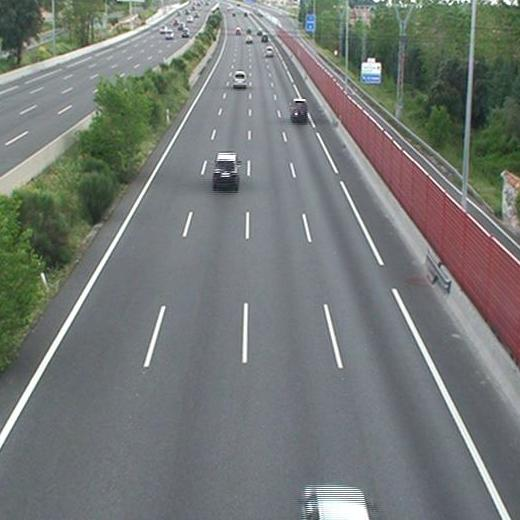car: (213, 153, 240, 185), (290, 101, 309, 120), (232, 71, 247, 87), (265, 46, 274, 57)
